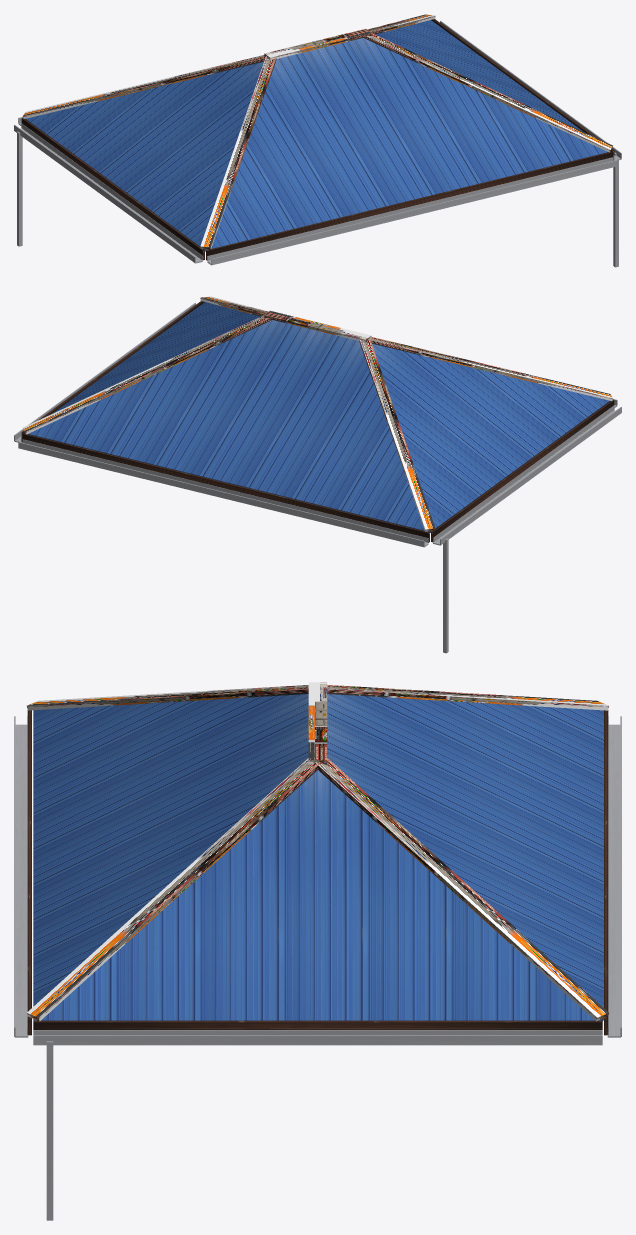
File: Roof_Hip_8x6.fbx
3 views of the same model, one above another, from view 1: azimuth 30°, elevation 25°; view 2: azimuth 150°, elevation 25°; view 3: azimuth 270°, elevation 25° (orthographic). The views are drawn at different scales.
Visible parts, largest first — view 1: Roof_Hip_8x6; view 2: Roof_Hip_8x6; view 3: Roof_Hip_8x6.
Boxes of the visible parts, left/top/right/bottom form: Roof_Hip_8x6: left=14, top=14, right=621, bottom=267; Roof_Hip_8x6: left=14, top=296, right=621, bottom=653; Roof_Hip_8x6: left=14, top=682, right=621, bottom=1220.
Size of the model in its own units: 9.32 by 4.41 by 7.26.
